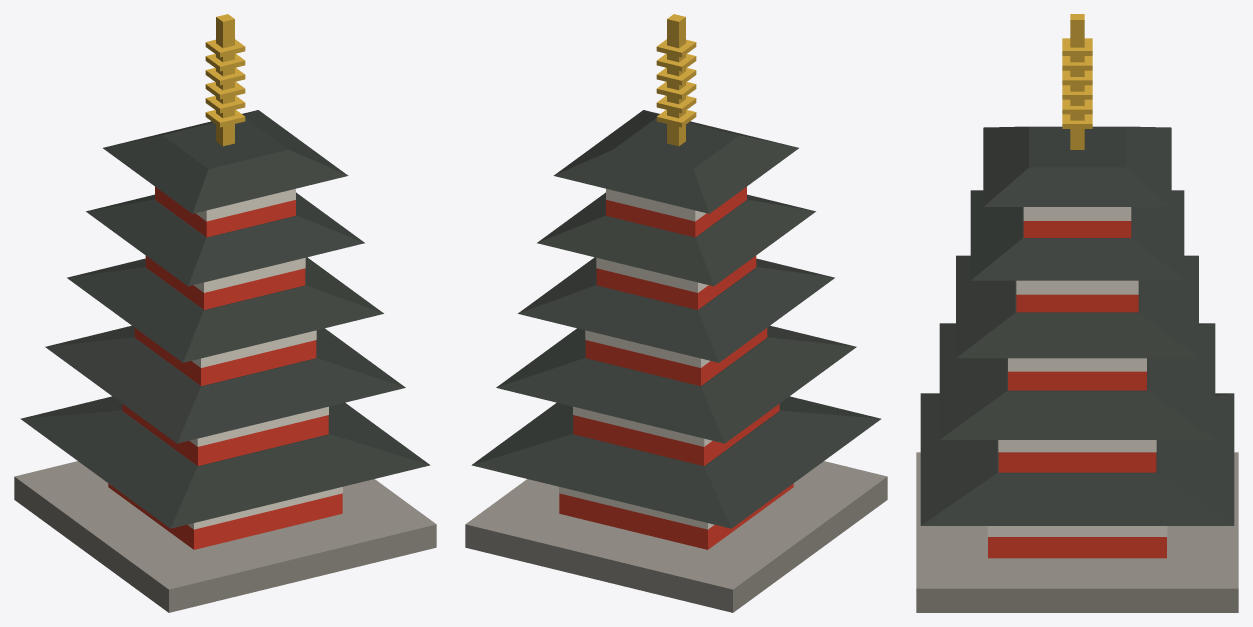
File: pagoda.glb
3 renders of one model, left to right at view 1: azimuth 30°, elevation 25°; view 2: azimuth 150°, elevation 25°; view 3: azimuth 270°, elevation 25°, orthographic. The views are drawn at different scales.
Bounding box in the file's own units: 0.36 × 0.65 × 0.36.
